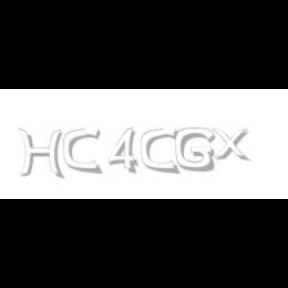4: (107, 128, 138, 174)
C: (142, 128, 179, 174), (64, 128, 100, 174)
G: (175, 128, 215, 172)
H: (18, 128, 64, 180)
x: (212, 128, 254, 162)
